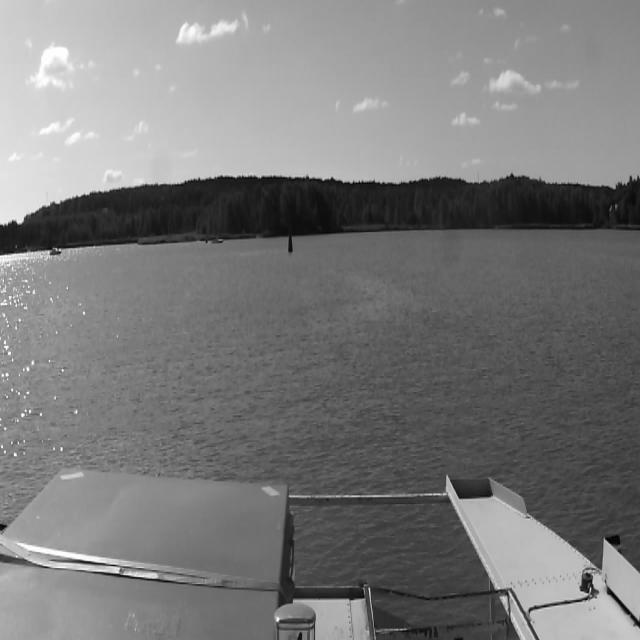buoy: (284, 232, 295, 258)
ship: (48, 245, 64, 255)
